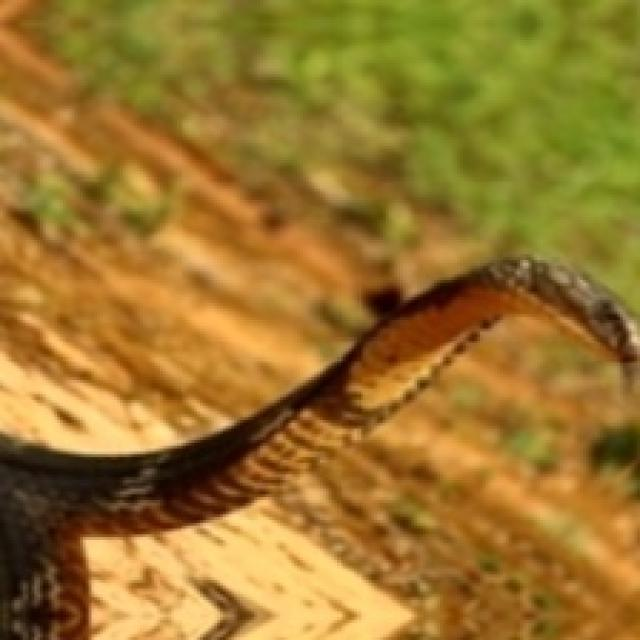king cobra: (0, 257, 637, 637)
